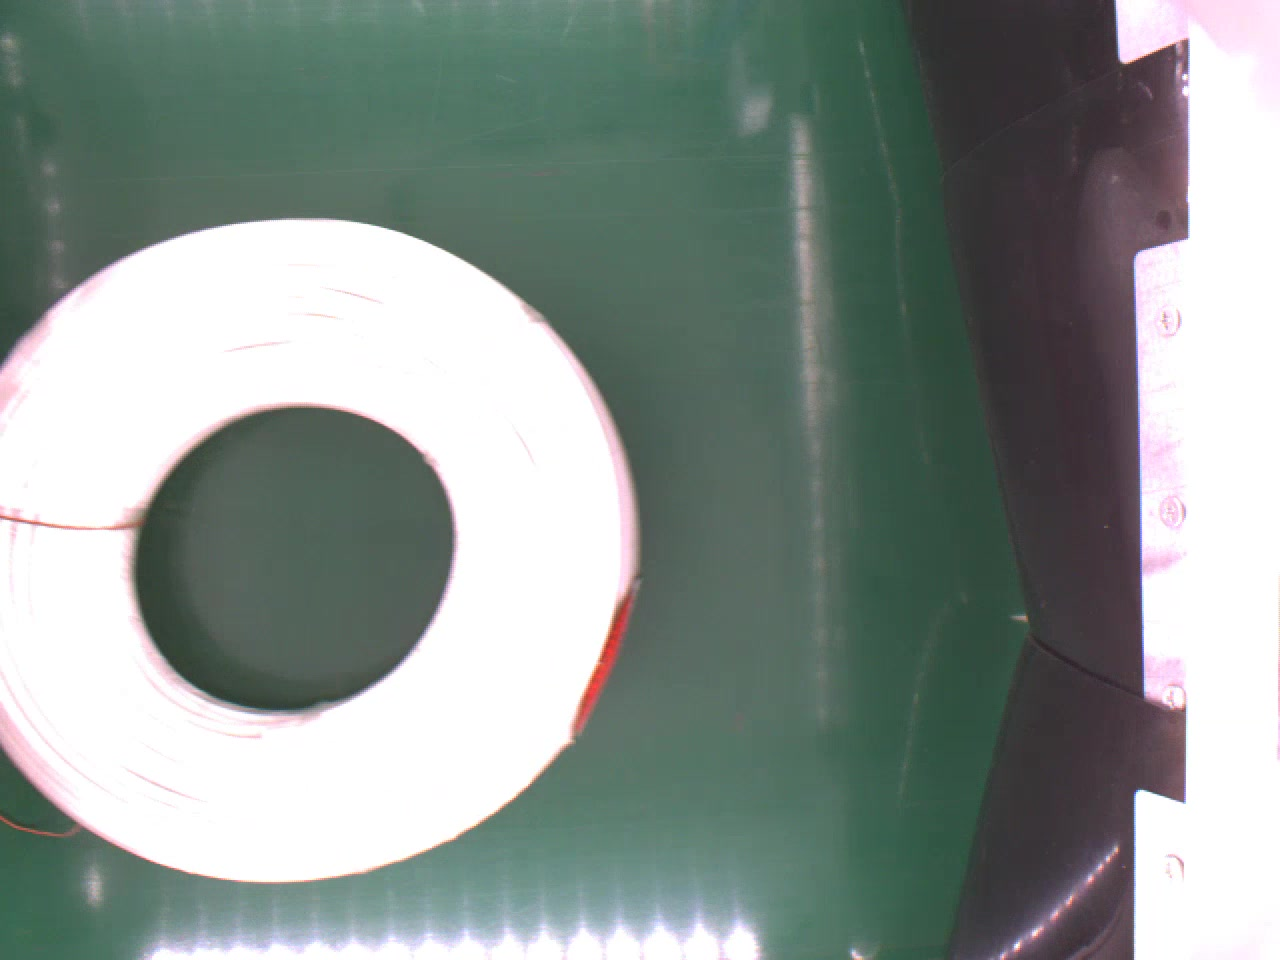white: (0, 216, 643, 885)
